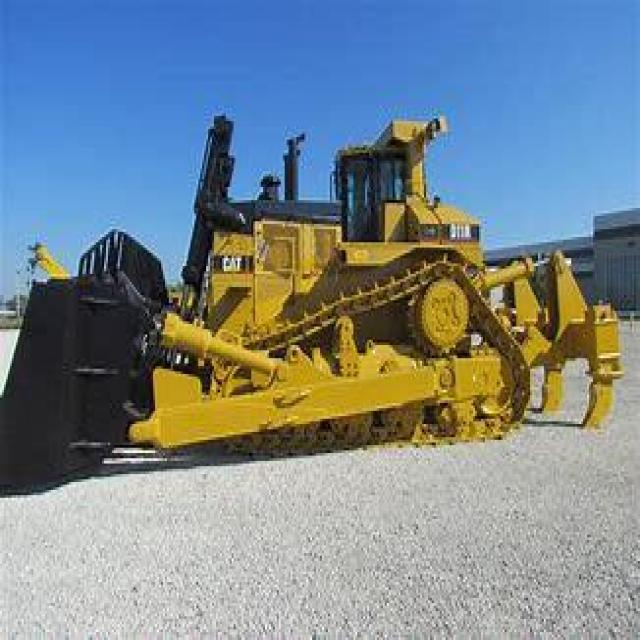buldozerpayloadergrader: (0, 66, 636, 500)
